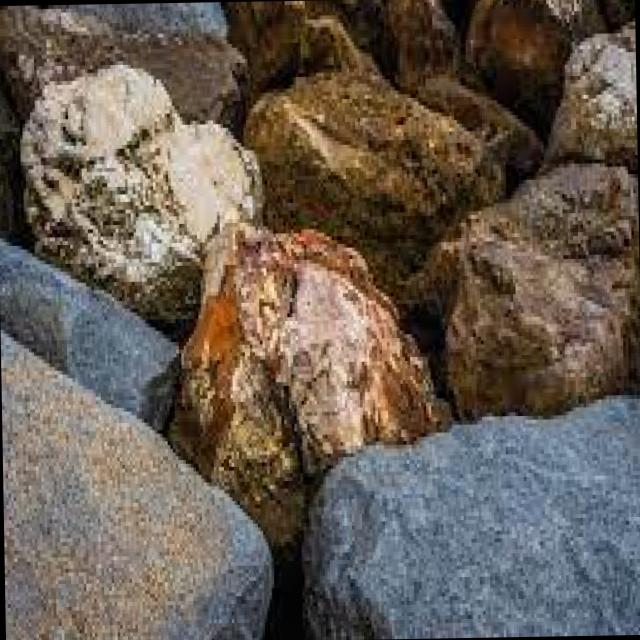stone: (172, 223, 449, 538), (0, 331, 271, 640), (303, 398, 640, 640), (22, 61, 260, 334), (243, 72, 508, 315), (445, 163, 640, 413), (0, 5, 248, 135), (0, 238, 169, 426), (548, 20, 638, 187), (63, 2, 224, 32)
